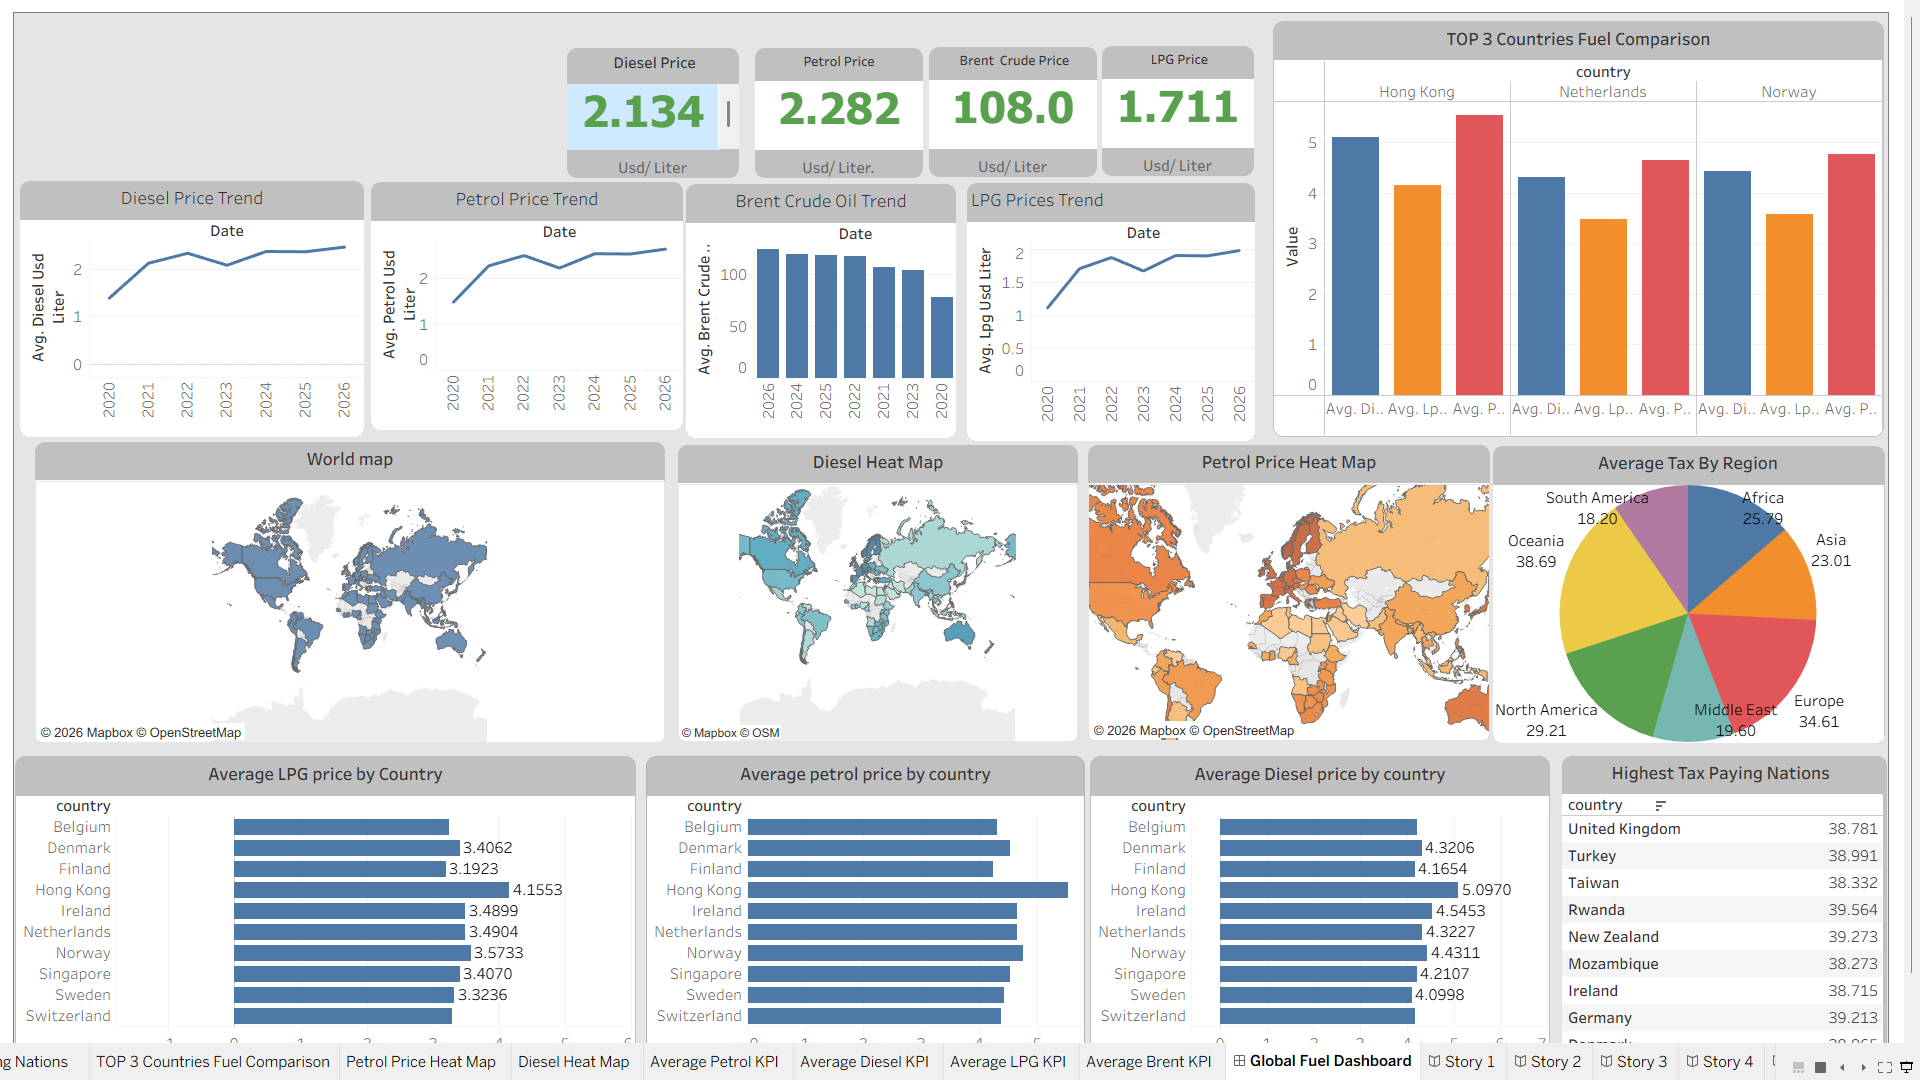

This screenshot's page, from the dashboard's own definition file:
{"tool":"tableau","page":{"name":"Global Fuel Dashboard","canvas":[1900,1100],"ordinal":1},"visuals":[{"type":"dashboard-object","param":"[com.tableau.addfilters].[0.0.0].[https://extensions.tableauusercontent.com/sand","box":[8,8,1884,1084]},{"type":"worksheet","title":"TOP 3 Countries Fuel Comparison","mark":"Automatic","cols":["country"],"box":[1272,21,611,416]},{"type":"worksheet","title":"Average LPG KPI","mark":"Automatic","box":[1101,46,152,130]},{"type":"worksheet","title":"Average Brent KPI","mark":"Automatic","box":[928,47,168,130]},{"type":"worksheet","title":"Average Diesel KPI","mark":"Automatic","box":[566,48,172,130]},{"type":"worksheet","title":"Average Petrol KPI","mark":"Text","box":[754,48,168,130]},{"type":"worksheet","title":"Diesel Price Trend","mark":"Automatic","rows":["diesel_usd_liter"],"cols":["date"],"box":[19,181,344,256]},{"type":"worksheet","title":"Petrol Price Trend","mark":"Automatic","rows":["petrol_usd_liter"],"cols":["date"],"box":[370,182,312,248]},{"type":"worksheet","title":"LPG Prices Trend","mark":"Automatic","rows":["lpg_usd_liter"],"cols":["date"],"box":[966,183,288,258]},{"type":"worksheet","title":"Brent Crude Oil Trend","mark":"Automatic","rows":["brent_crude_usd"],"cols":["date"],"box":[685,184,270,254]},{"type":"worksheet","title":"World map","mark":"Multipolygon","box":[34,442,630,301]},{"type":"worksheet","title":"Diesel Heat Map","mark":"Automatic","box":[677,445,400,297]},{"type":"worksheet","title":"Petrol Price Heat Map","mark":"Automatic","box":[1087,445,402,296]},{"type":"worksheet","title":"Average Tax By Region","mark":"Pie","box":[1492,446,392,297]},{"type":"worksheet","title":"Average LPG price by Country","mark":"Automatic","rows":["country"],"cols":["lpg_usd_liter"],"box":[14,756,621,335]},{"type":"worksheet","title":"Average petrol price by country","mark":"Automatic","rows":["country"],"cols":["petrol_usd_liter"],"box":[645,756,439,335]},{"type":"worksheet","title":"Average Diesel price by country","mark":"Automatic","rows":["country"],"cols":["diesel_usd_liter"],"box":[1089,756,460,335]},{"type":"worksheet","title":"Highest Tax Paying Nations ","mark":"Automatic","rows":["country"],"box":[1561,756,325,335]}]}

Visuals, with their boxes on the page's 1900x1100 design canvas (x1, y1, x2, y2). These are canvas units, not pixel positions in the 1920x1080 screenshot, which may show the page scaled, cropped or inside an application window:
dashboard-object: region(8, 8, 1892, 1092)
"TOP 3 Countries Fuel Comparison" worksheet: region(1272, 21, 1883, 437)
"Average LPG KPI" worksheet: region(1101, 46, 1253, 176)
"Average Brent KPI" worksheet: region(928, 47, 1096, 177)
"Average Diesel KPI" worksheet: region(566, 48, 738, 178)
"Average Petrol KPI" worksheet (Text marks): region(754, 48, 922, 178)
"Diesel Price Trend" worksheet: region(19, 181, 363, 437)
"Petrol Price Trend" worksheet: region(370, 182, 682, 430)
"LPG Prices Trend" worksheet: region(966, 183, 1254, 441)
"Brent Crude Oil Trend" worksheet: region(685, 184, 955, 438)
"World map" worksheet (Multipolygon marks): region(34, 442, 664, 743)
"Diesel Heat Map" worksheet: region(677, 445, 1077, 742)
"Petrol Price Heat Map" worksheet: region(1087, 445, 1489, 741)
"Average Tax By Region" worksheet (Pie marks): region(1492, 446, 1884, 743)
"Average LPG price by Country" worksheet: region(14, 756, 635, 1091)
"Average petrol price by country" worksheet: region(645, 756, 1084, 1091)
"Average Diesel price by country" worksheet: region(1089, 756, 1549, 1091)
"Highest Tax Paying Nations " worksheet: region(1561, 756, 1886, 1091)
